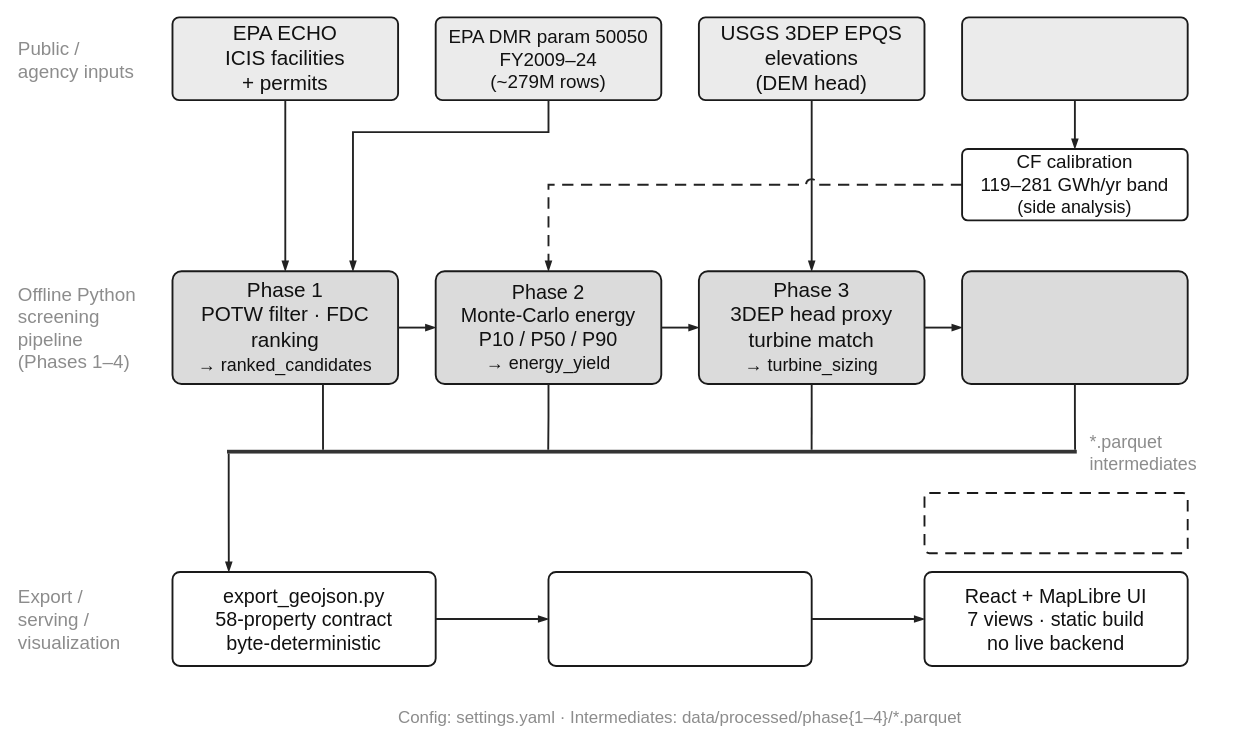
Some shapes in this 1235 by 747 pixel diagram are drawn without their labels. The centre of each missing label's shape, as x and y in pixels:
DOE EHA / EIA-860/923 CF & generation labels: pixel 1074 58
Phase 4 CapEx · NPV · payback econ gates → scorecards: pixel 1074 327
Phase 5 ML — killed (only 11 FERC labels): pixel 1055 523
scored_sites.geojson (+ viable_sites) 1,138 project-viable: pixel 679 618
